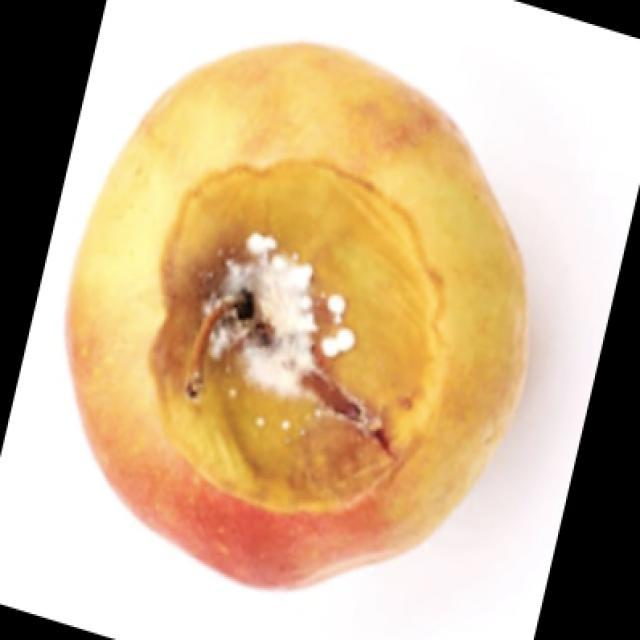Rotten: (75, 57, 530, 583)
